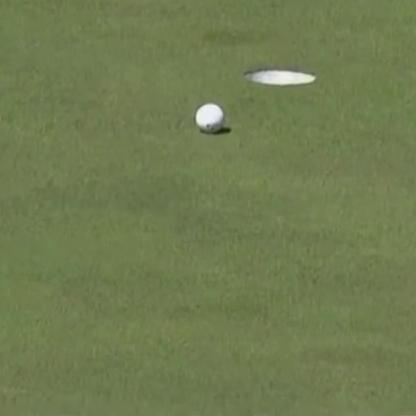golfball: (191, 102, 224, 133)
